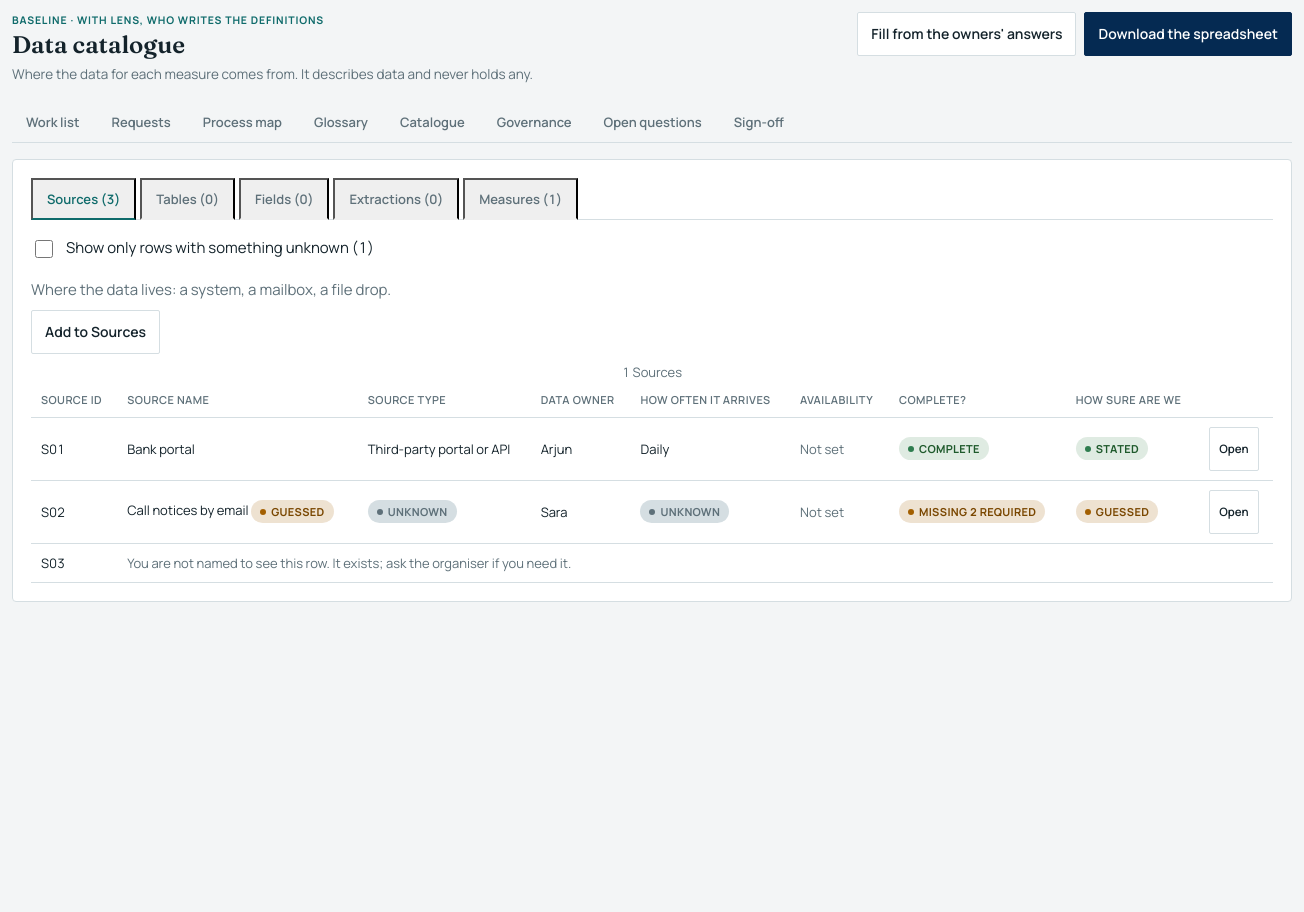
it: the catalogue › opens a row to show who said each cell and when
Click the button "Open" in the row of "S01" at (1234, 449), box top-left (1209, 427), bottom-right (1259, 471)
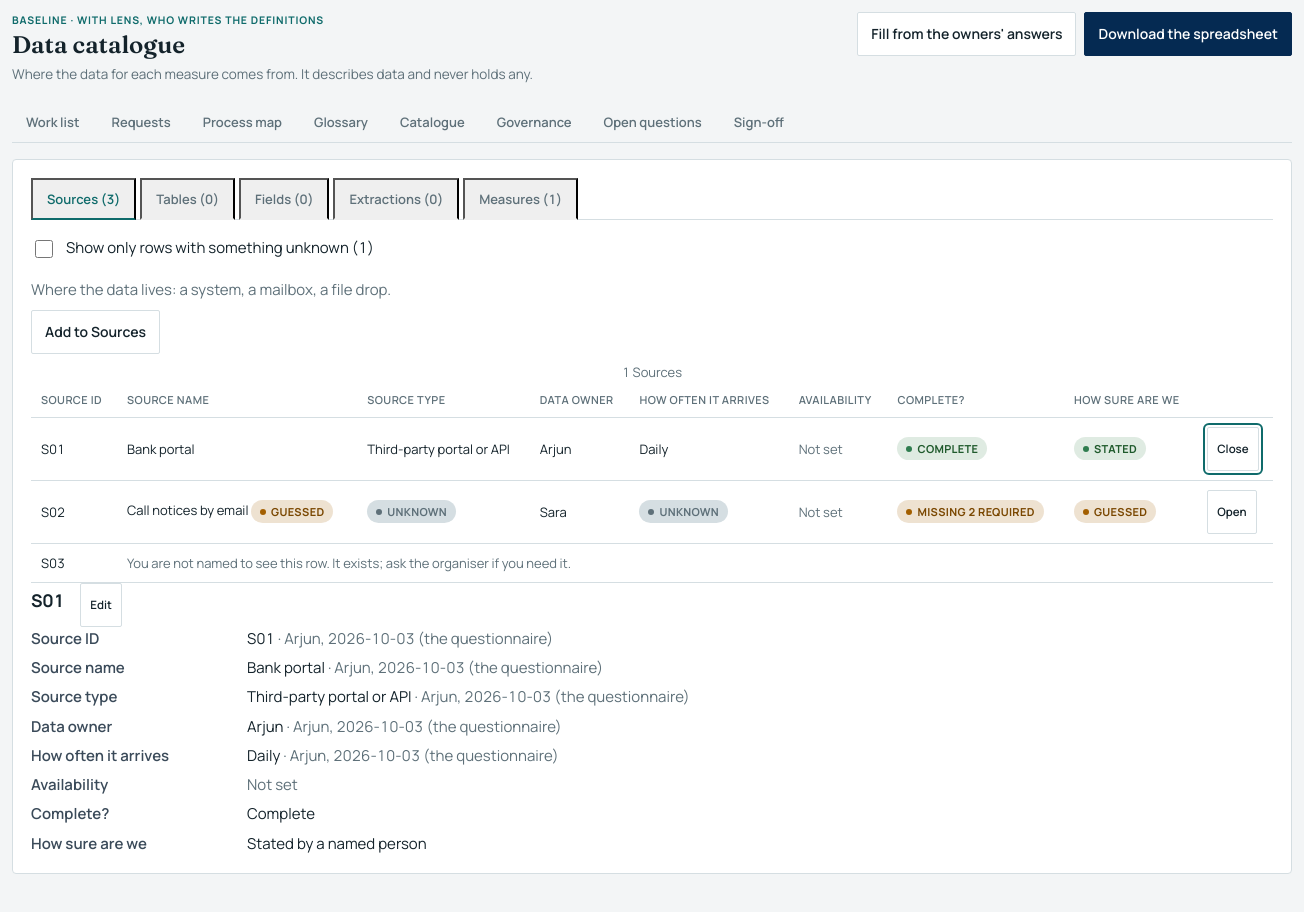
Expected: the 1st text "· Arjun, 2026-10-03 (the questionnaire)" is shown, top-left (275, 628), bottom-right (553, 649)
